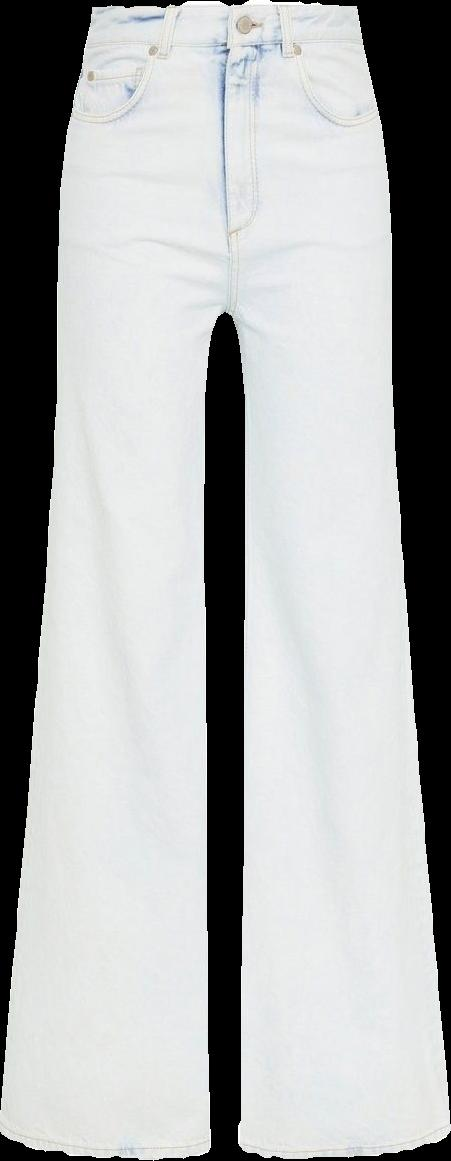Hemline: (0, 1122, 221, 1159), (234, 1126, 450, 1160)
Pantleg: (221, 0, 450, 1157), (0, 0, 225, 1158)
Waistline: (83, 35, 365, 59), (89, 0, 359, 21)
